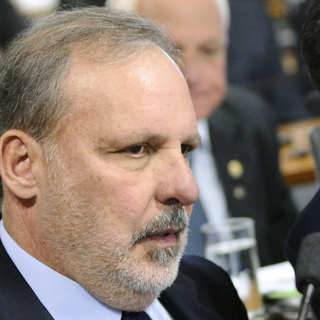eye: (112, 139, 154, 161)
